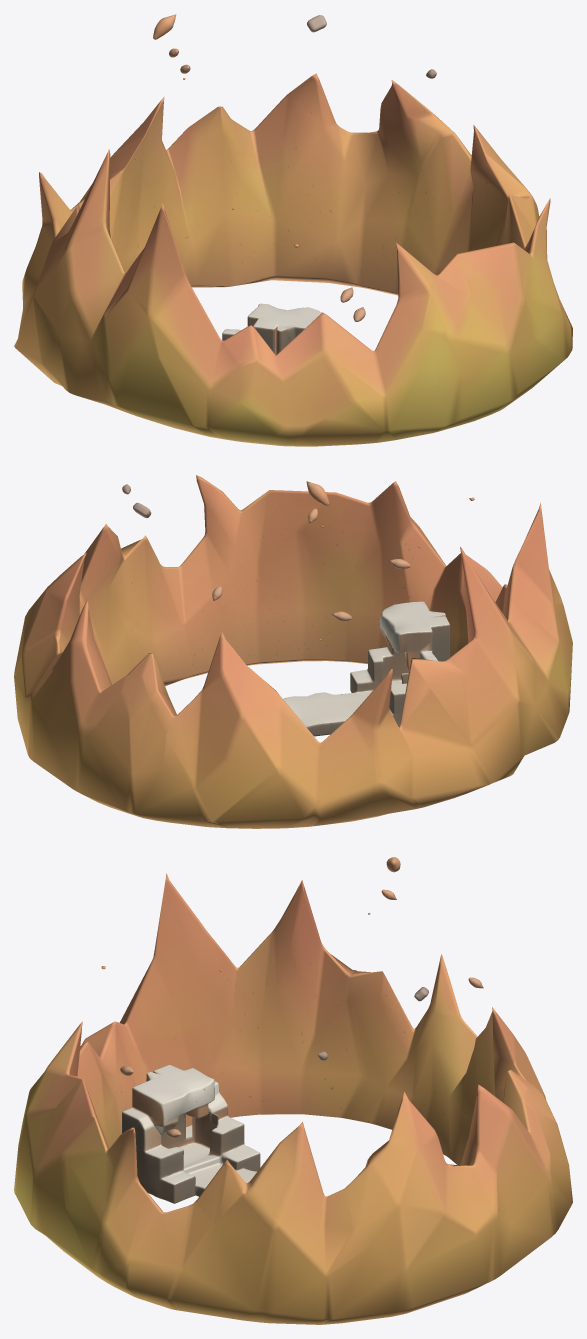
Rendered from anillo_fuego.glb.
3 renders of one model, top to bottom at view 1: azimuth 30°, elevation 25°; view 2: azimuth 150°, elevation 25°; view 3: azimuth 270°, elevation 25°, orthographic. The views are drawn at different scales.
Parts seen in each view (by area): view 1: d5824f37_209a_468d_818c_f740a0daae8e; view 2: d5824f37_209a_468d_818c_f740a0daae8e; view 3: d5824f37_209a_468d_818c_f740a0daae8e.
Part boxes in pixels (<box>): d5824f37_209a_468d_818c_f740a0daae8e: <box>14,14,572,446</box>; d5824f37_209a_468d_818c_f740a0daae8e: <box>14,475,572,828</box>; d5824f37_209a_468d_818c_f740a0daae8e: <box>14,857,572,1324</box>.
Bounding box in the file's own units: 0.9995 × 0.7212 × 0.9878.
Materials: 1 (1 with a texture image).
